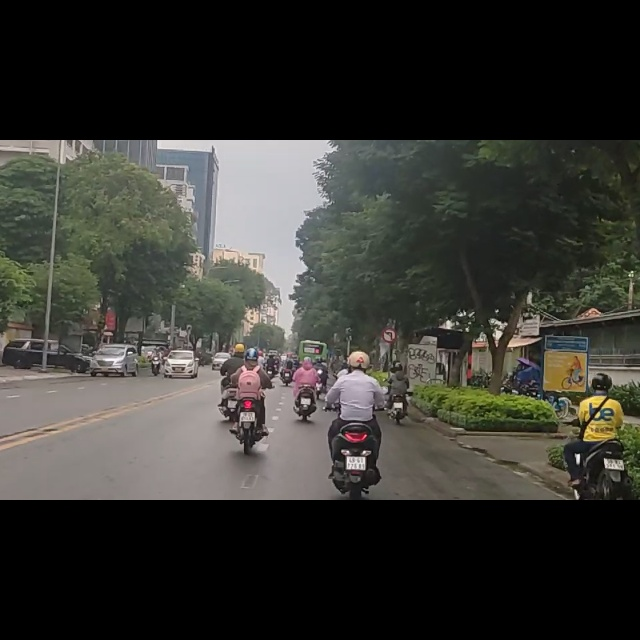bien_cam: (381, 333, 397, 359)
